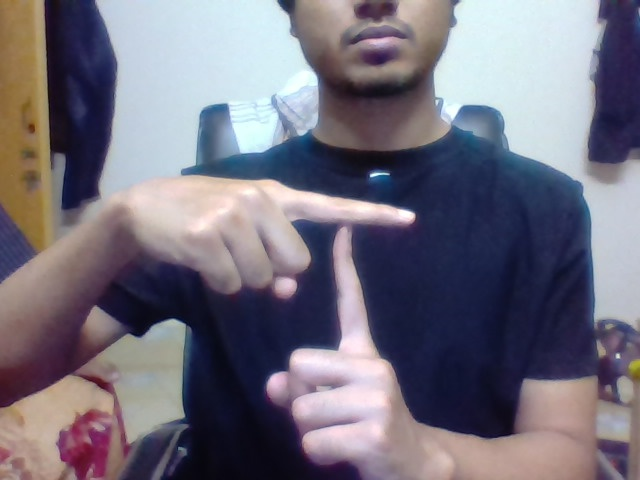T: (312, 185, 427, 334)
